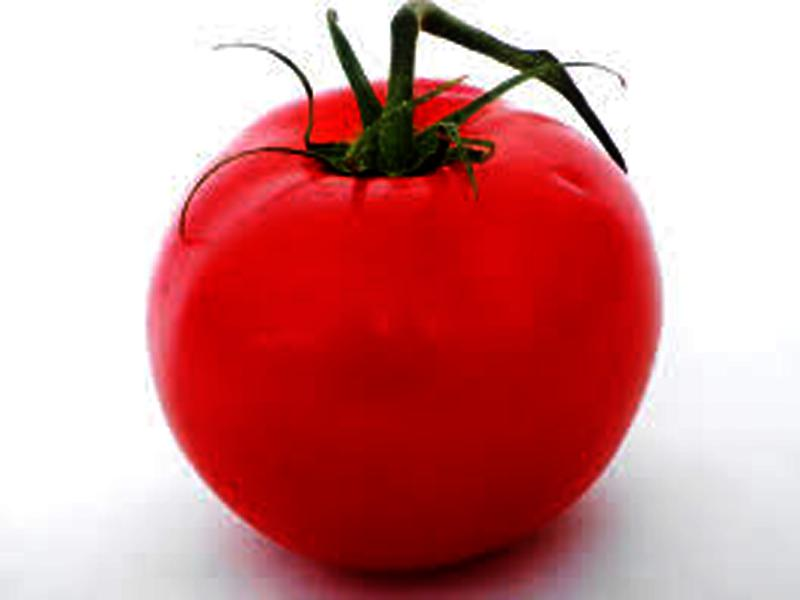Tomato: (141, 82, 657, 575)
